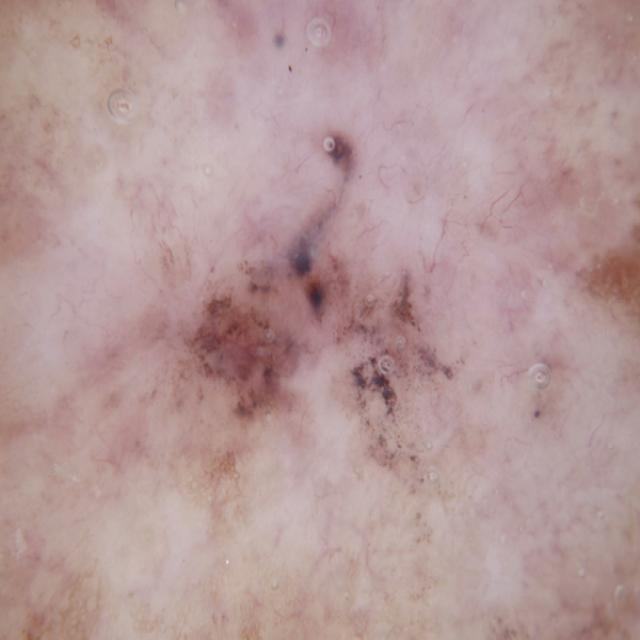Skin-Cancer Basal cell carcinoma: (24, 44, 551, 537)
